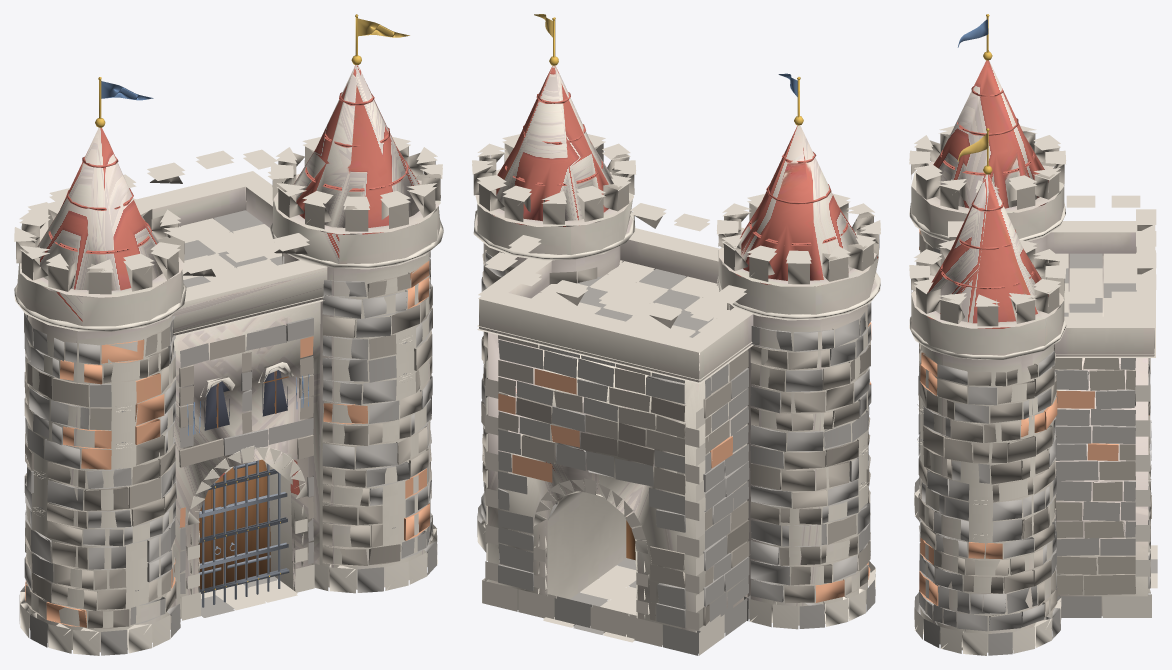
3 views of the same model, side by side, from view 1: azimuth 30°, elevation 25°; view 2: azimuth 150°, elevation 25°; view 3: azimuth 270°, elevation 25° (orthographic). The views are drawn at different scales.
Parts seen in each view (by area): view 1: gatehouse_body, gatehouse_stonework, gatehouse_masonry, gatehouse_details, gatehouse_trim, gatehouse_portcullis, gatehouse_gate_right, gatehouse_gate_left; view 2: gatehouse_body, gatehouse_stonework, gatehouse_masonry, gatehouse_trim, gatehouse_details; view 3: gatehouse_stonework, gatehouse_body, gatehouse_masonry, gatehouse_trim.
Part boxes in pixels (box(x1,y1,x2,y2)): gatehouse_body: box(16, 65, 440, 652); gatehouse_stonework: box(24, 251, 432, 628); gatehouse_masonry: box(14, 136, 442, 655); gatehouse_details: box(33, 335, 412, 594); gatehouse_trim: box(14, 14, 443, 331); gatehouse_portcullis: box(199, 460, 289, 607); gatehouse_gate_right: box(223, 459, 270, 583); gatehouse_gate_left: box(198, 476, 223, 589); gatehouse_body: box(474, 65, 878, 645); gatehouse_stonework: box(481, 250, 871, 627); gatehouse_masonry: box(472, 134, 880, 655); gatehouse_trim: box(473, 14, 880, 320); gatehouse_details: box(533, 445, 868, 619); gatehouse_stonework: box(918, 229, 1150, 631); gatehouse_body: box(911, 60, 1154, 652); gatehouse_masonry: box(909, 125, 1157, 655); gatehouse_trim: box(909, 14, 1066, 359).
Size of the model in its own units: 13.28 by 17.03 by 7.73.
Materials: 14 (1 with a texture image).
